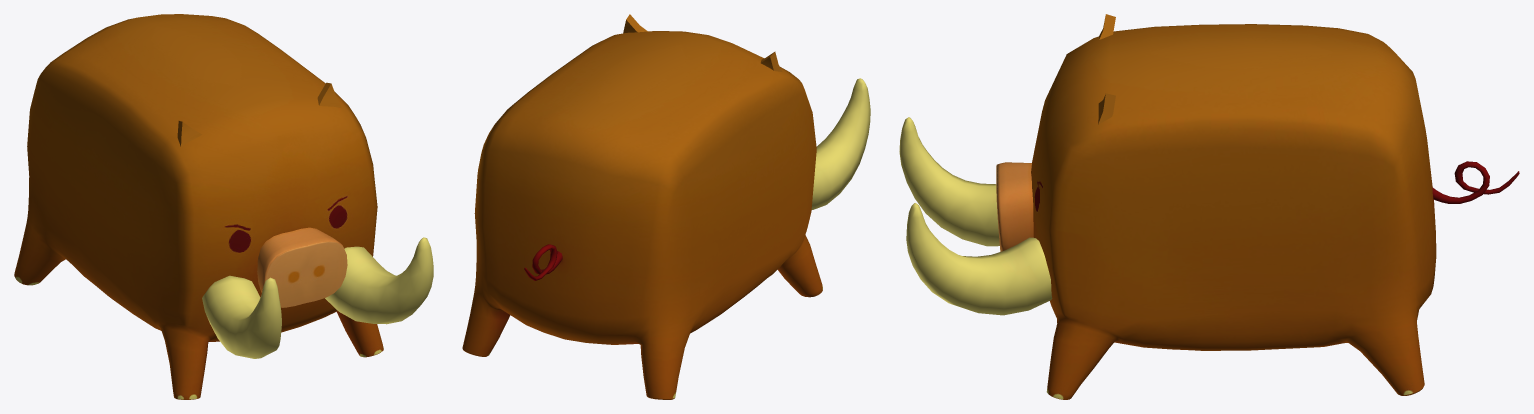
The model's file is BoarLow.fbx.
3 renders of one model, left to right at view 1: azimuth 30°, elevation 25°; view 2: azimuth 150°, elevation 25°; view 3: azimuth 270°, elevation 25°, orthographic. The views are drawn at different scales.
Visible parts, largest first — view 1: pCube5; view 2: pCube5; view 3: pCube5.
Part boxes in pixels (box(x1,y1,x2,y2)): pCube5: box(14, 14, 433, 399); pCube5: box(462, 14, 870, 399); pCube5: box(899, 14, 1519, 399).
Size of the model in its own units: 53.91 by 58.72 by 110.
Materials: 1 (1 with a texture image).
